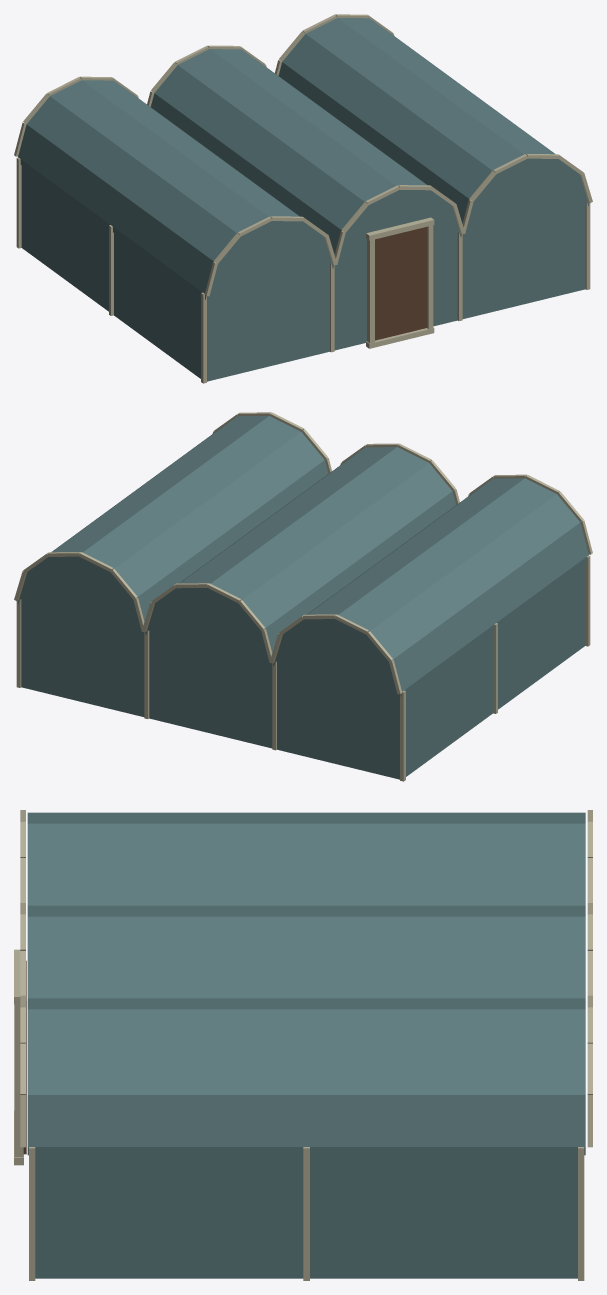
File: Building_Settlement_TripleGrowHouse_001_LOD1.glb
The picture shows the model from 3 angles, top to bottom: view 1: azimuth 30°, elevation 25°; view 2: azimuth 150°, elevation 25°; view 3: azimuth 270°, elevation 25°; orthographic projection. The views are drawn at different scales.
Parts seen in each view (by area): view 1: Building_Settlement_TripleGrowHouse_001_LOD1; view 2: Building_Settlement_TripleGrowHouse_001_LOD1; view 3: Building_Settlement_TripleGrowHouse_001_LOD1.
Boxes of the visible parts, box(x1,y1,x2,y2) form: Building_Settlement_TripleGrowHouse_001_LOD1: box(14, 14, 592, 383); Building_Settlement_TripleGrowHouse_001_LOD1: box(14, 412, 592, 781); Building_Settlement_TripleGrowHouse_001_LOD1: box(14, 810, 592, 1280).
Bounding box in the file's own units: 7.27 × 2.74 × 6.33.
